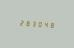eight: (48, 20, 53, 29), (23, 19, 28, 27)
four: (42, 20, 47, 28)
three: (30, 19, 35, 27)
two: (17, 18, 22, 27)
zero: (36, 19, 41, 28)
